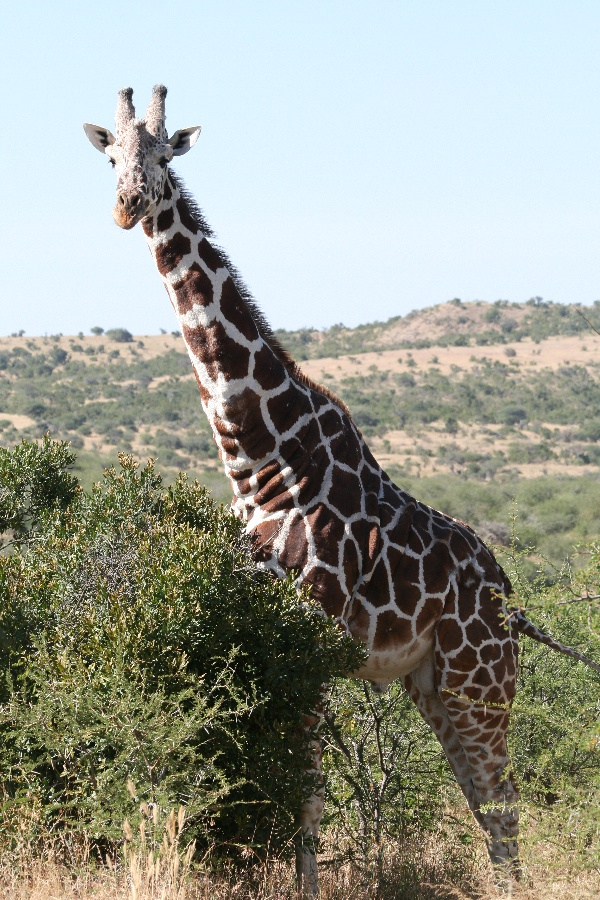giraffe: (78, 63, 554, 888)
